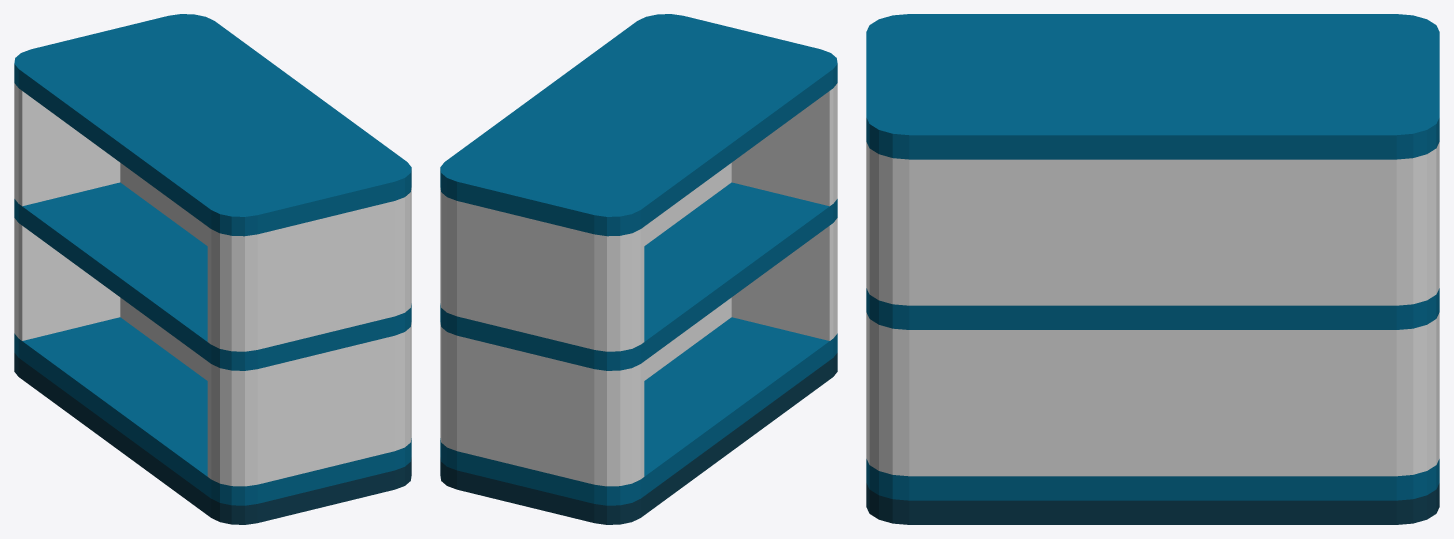
The model's file is G01_018_ShelfB.fbx.
3 views of the same model, side by side, from view 1: azimuth 30°, elevation 25°; view 2: azimuth 150°, elevation 25°; view 3: azimuth 270°, elevation 25° (orthographic). The views are drawn at different scales.
Parts seen in each view (by area): view 1: 011_Cage_01_B; view 2: 011_Cage_01_B; view 3: 011_Cage_01_B.
Part boxes in pixels (bbox=[...]): 011_Cage_01_B: bbox=[14, 14, 411, 524]; 011_Cage_01_B: bbox=[440, 14, 837, 524]; 011_Cage_01_B: bbox=[866, 14, 1439, 524].
Size of the model in its own units: 200 by 300 by 400.
